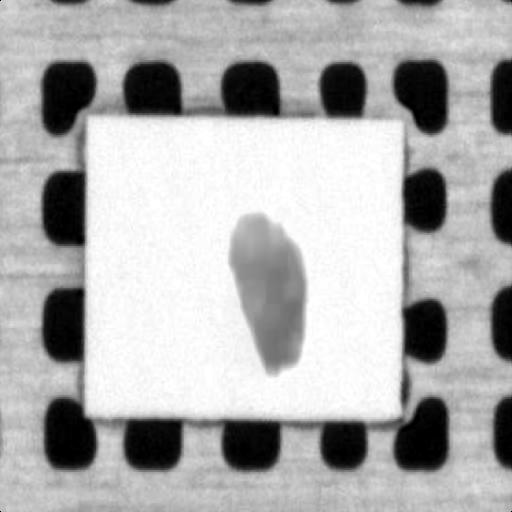DIE_INK: (275, 133, 432, 306)
